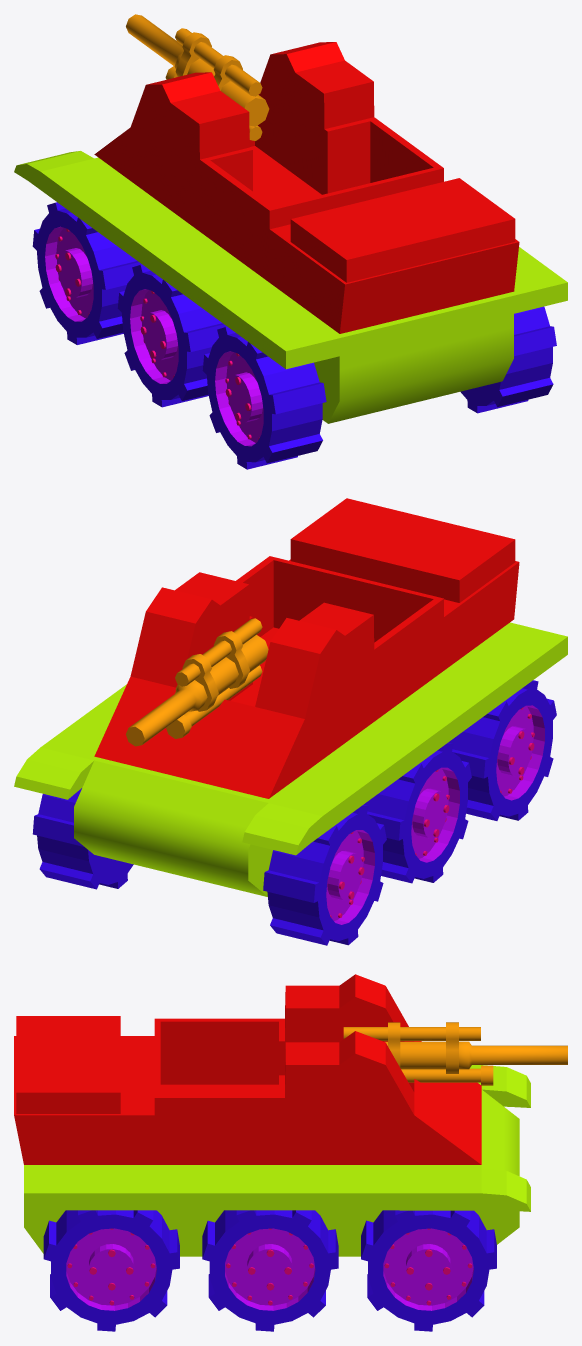
The picture shows the model from 3 angles, top to bottom: view 1: azimuth 30°, elevation 25°; view 2: azimuth 150°, elevation 25°; view 3: azimuth 270°, elevation 25°; orthographic projection. The views are drawn at different scales.
Visible parts, largest first — view 1: BodyBottomPart, Body, Wheel (×4), Canon; view 2: BodyBottomPart, Body, Wheel (×4), Canon; view 3: BodyBottomPart, Wheel (×3), Body, Canon.
Part boxes in pixels (x1,y1,x2,y2): BodyBottomPart: (94,42,519,333); Body: (14,151,567,423); Wheel (×4): (32,202,556,469); Canon: (126,14,269,140); BodyBottomPart: (94,498,519,798); Body: (14,622,567,896); Wheel (×4): (32,680,556,945); Canon: (126,618,268,746); BodyBottomPart: (14,974,481,1164); Wheel (×3): (43,1210,496,1331); Body: (24,1065,530,1256); Canon: (343,1022,567,1085).
Size of the model in its own units: 2.01 by 1.84 by 3.63.
